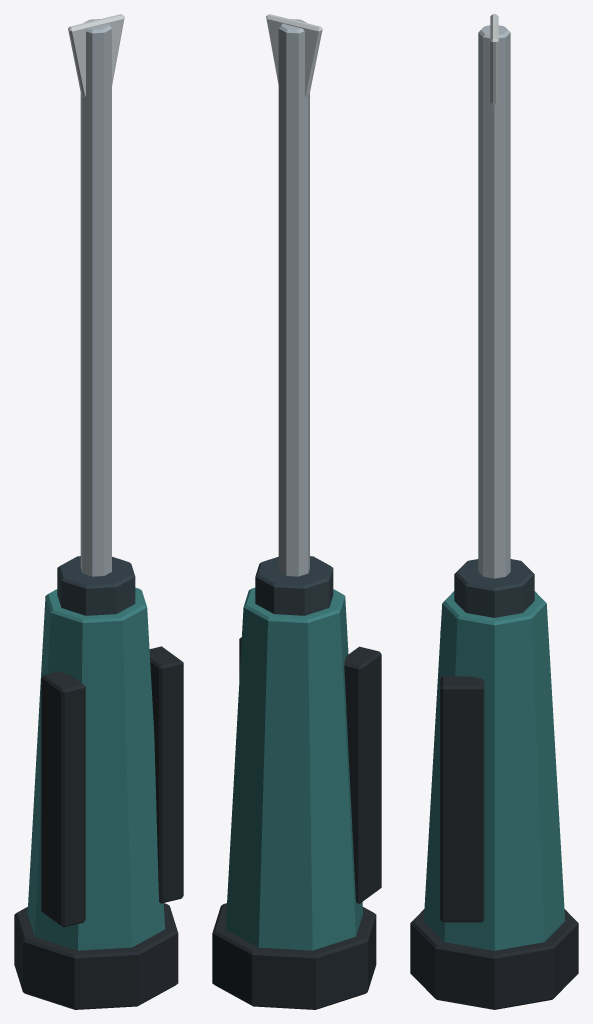
File: b06_flat_screwdriver.glb
3 renders of one model, left to right at view 1: azimuth 30°, elevation 25°; view 2: azimuth 150°, elevation 25°; view 3: azimuth 270°, elevation 25°, orthographic.
Parts seen in each view (by area): view 1: b06_flat_screwdriver; view 2: b06_flat_screwdriver; view 3: b06_flat_screwdriver.
Part boxes in pixels (left/top/right/bottom): b06_flat_screwdriver: left=14, top=14, right=183, bottom=1009; b06_flat_screwdriver: left=212, top=14, right=381, bottom=1009; b06_flat_screwdriver: left=410, top=14, right=578, bottom=1009.
Bounding box in the file's own units: 0.042 × 0.261 × 0.042.
